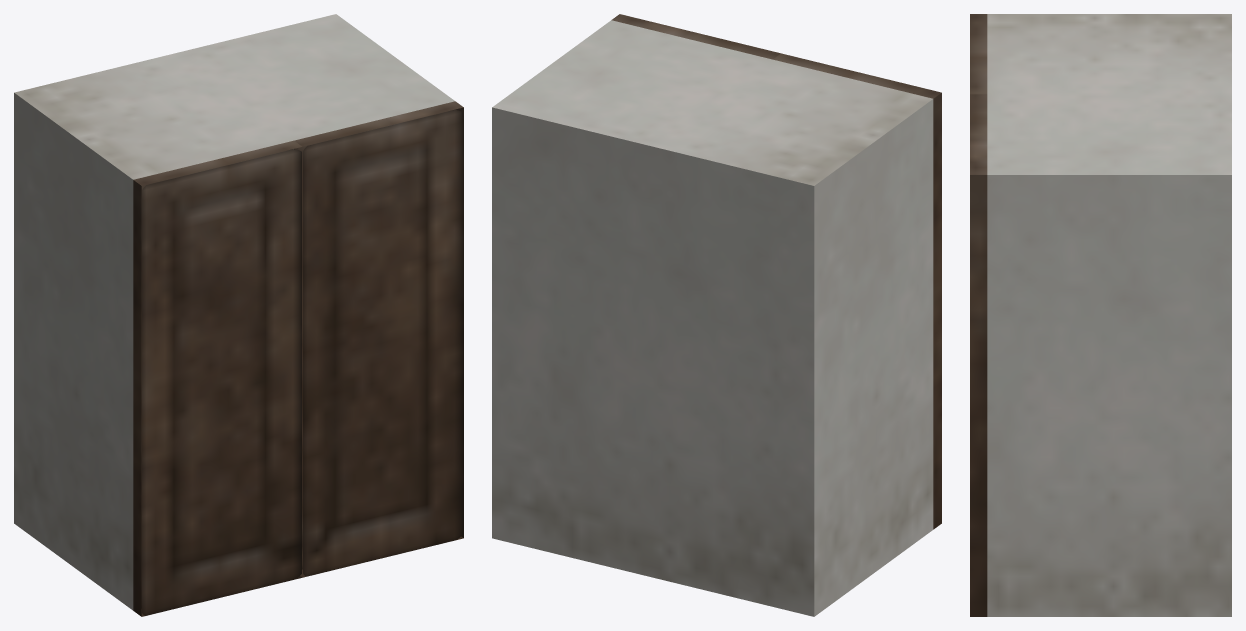
File: SM_EC_House_Kitchen_Cupboard_Static_01.fbx
The picture shows the model from 3 angles, left to right: view 1: azimuth 30°, elevation 25°; view 2: azimuth 150°, elevation 25°; view 3: azimuth 270°, elevation 25°; orthographic projection. The views are drawn at different scales.
Visible parts, largest first — view 1: SM_EC_House_Kitchen_Cupboard_Static_01; view 2: SM_EC_House_Kitchen_Cupboard_Static_01; view 3: SM_EC_House_Kitchen_Cupboard_Static_01.
Part boxes in pixels (bbox=[...]): SM_EC_House_Kitchen_Cupboard_Static_01: bbox=[14, 14, 463, 616]; SM_EC_House_Kitchen_Cupboard_Static_01: bbox=[492, 14, 941, 616]; SM_EC_House_Kitchen_Cupboard_Static_01: bbox=[970, 14, 1231, 616].
Size of the model in its own units: 1.1 by 0.7546 by 1.41.
